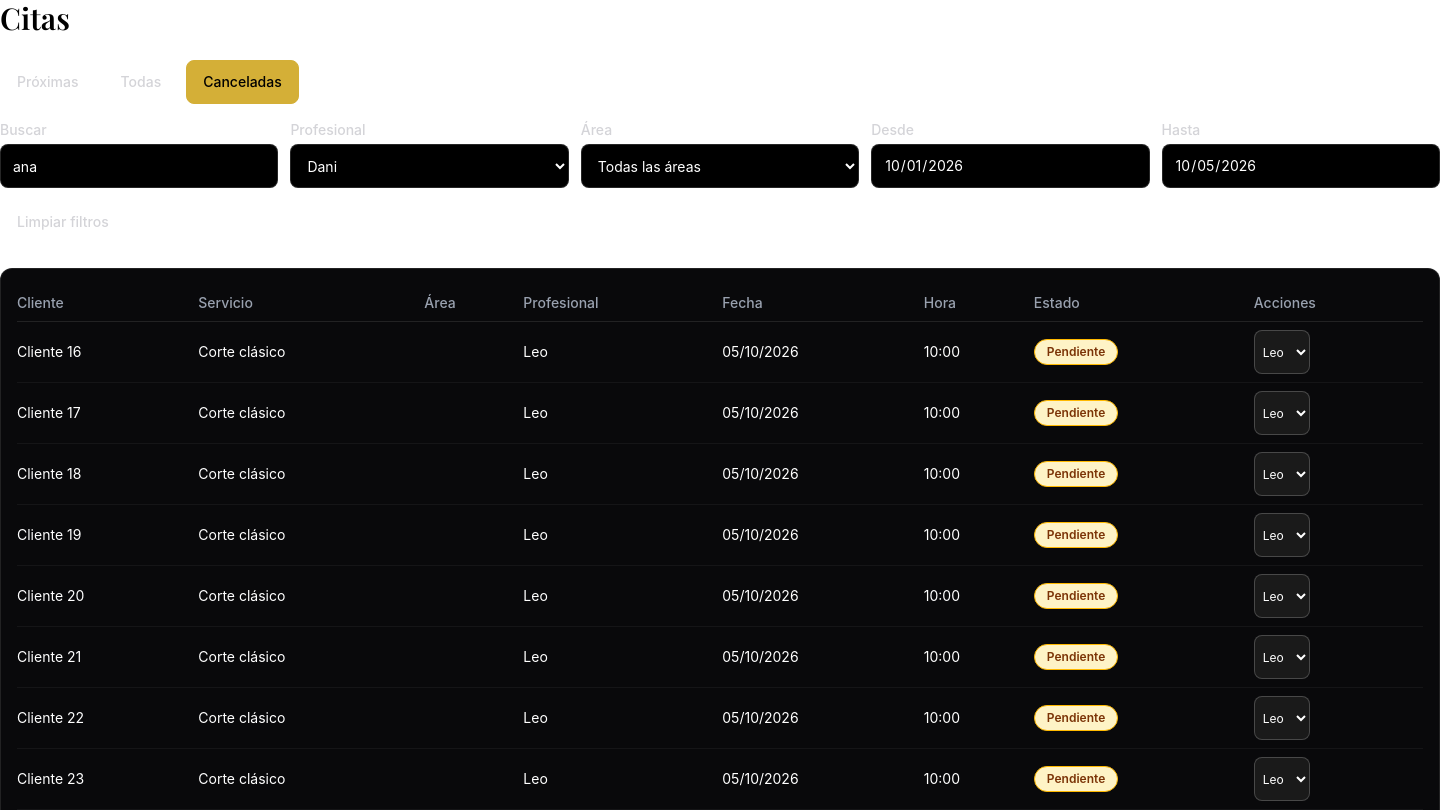
Scenario: /admin/citas: los filtros reinician la página › "Limpiar filtros" aparece solo con filtros y quita búsqueda, barbero y fechas (conserva la pestaña)
The width and height of the screenshot is (1440, 810).
Click the button "Limpiar filtros".
click(63, 222)  # box x1=0 y1=200 x2=126 y2=244
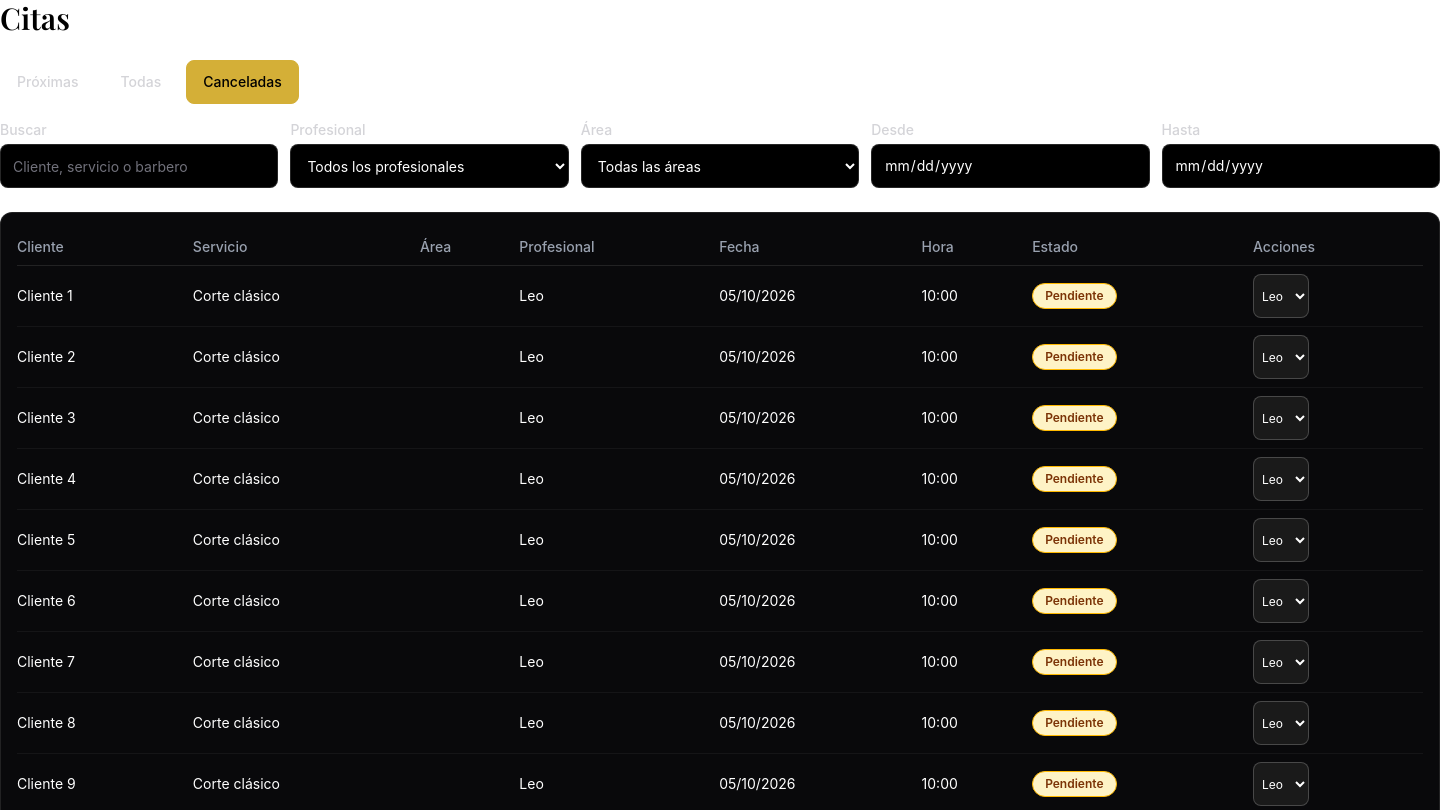
Expected: the search field labelled "Buscar" is empty, x1=0 y1=144 x2=278 y2=188
Expected: the button "Limpiar filtros" is gone
